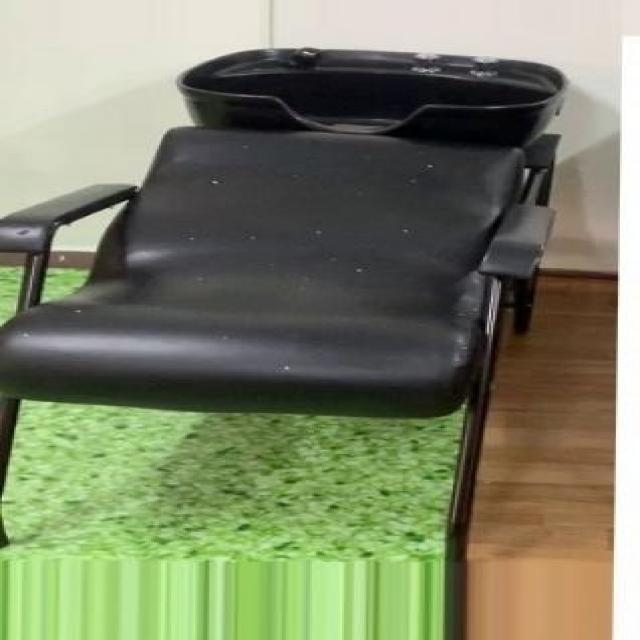Chair: (2, 42, 576, 640)
